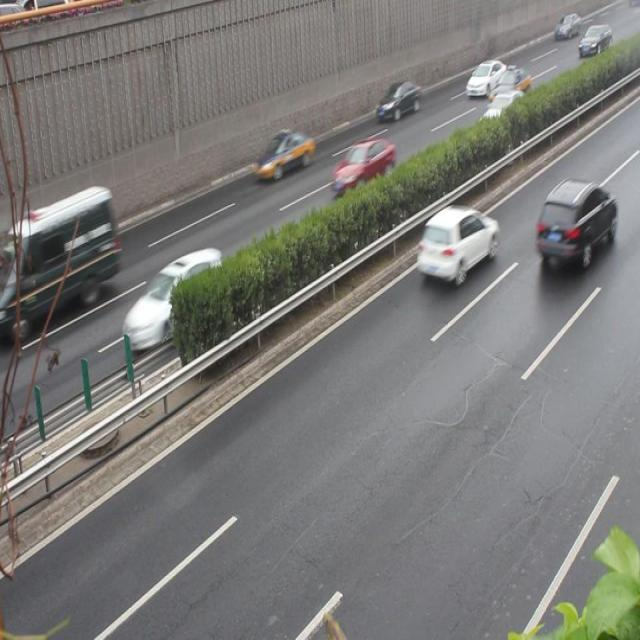car: (122, 248, 229, 351), (534, 180, 614, 267), (414, 207, 496, 284), (327, 138, 395, 196), (252, 128, 313, 184), (476, 90, 527, 139), (374, 81, 422, 122)
truck: (10, 186, 118, 318)
